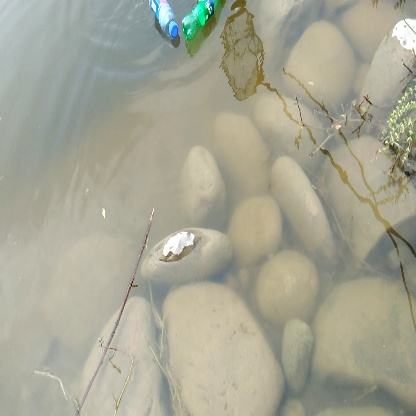bottle: (184, 1, 234, 38), (145, 1, 182, 39)
